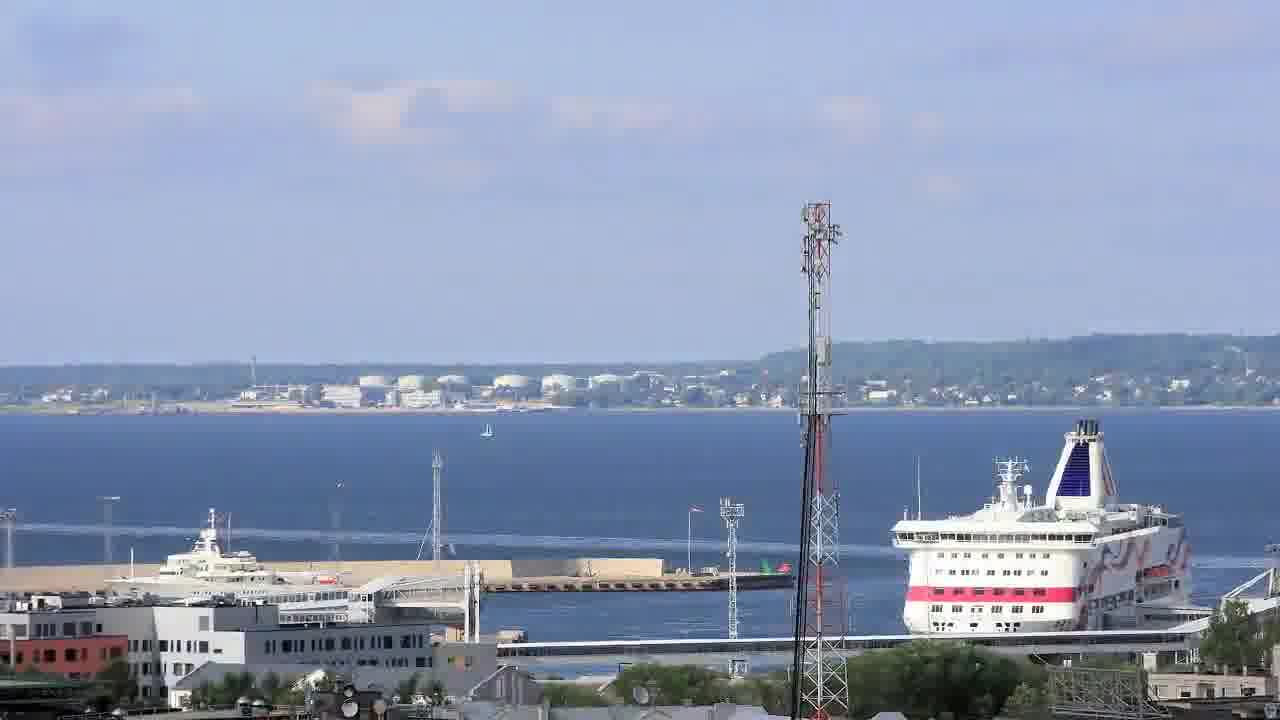type-2: (463, 402, 510, 456)
type-3: (868, 415, 1225, 638), (84, 511, 353, 609)
